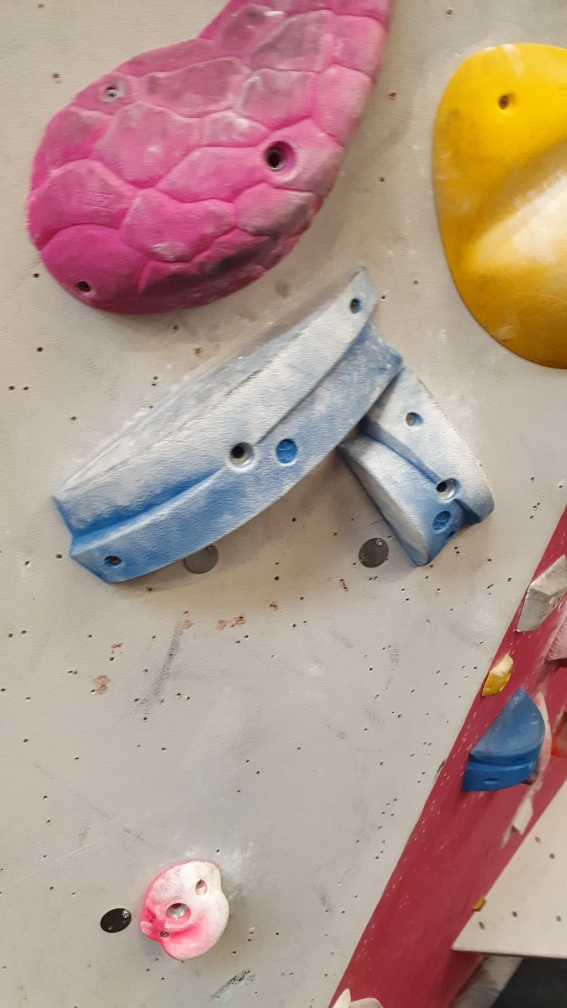Hand Start: (179, 541, 222, 577), (357, 535, 390, 575), (98, 902, 133, 937)
Pinch: (50, 268, 404, 585), (337, 362, 496, 573), (464, 687, 545, 793)
